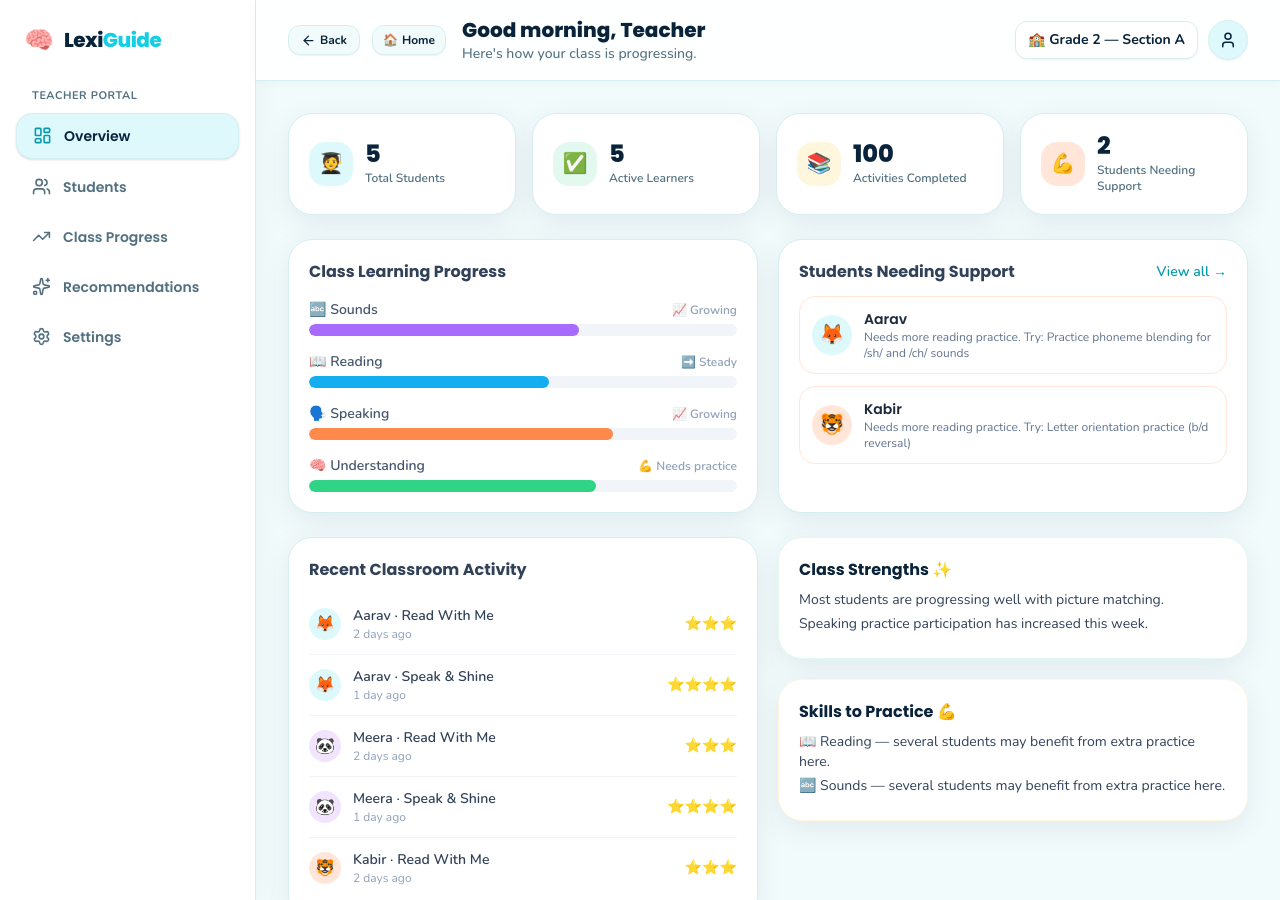
Test: Phase 4: Teacher Experience › 2. Teacher navigation contains exactly 5 primary items
Expected: the heading "Good morning, Teacher" is shown, [462,16,706,44]
Expected: the text "Overview" is shown, [64,126,130,146]
Click the button named "teacher menu".
click(1228, 40)  # box [1208,20,1248,60]
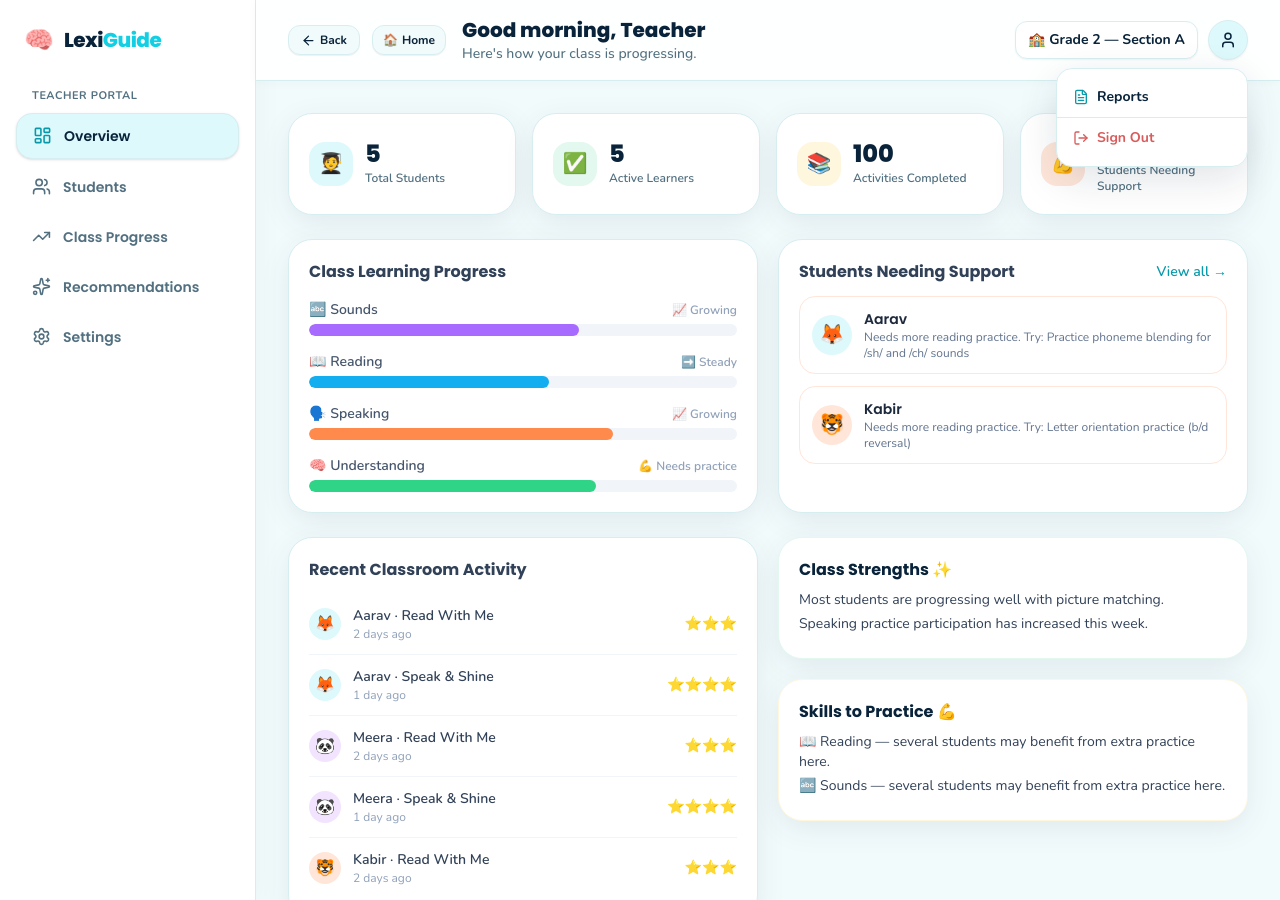
Result: the button "Reports" is shown at [1057,77,1247,117]
